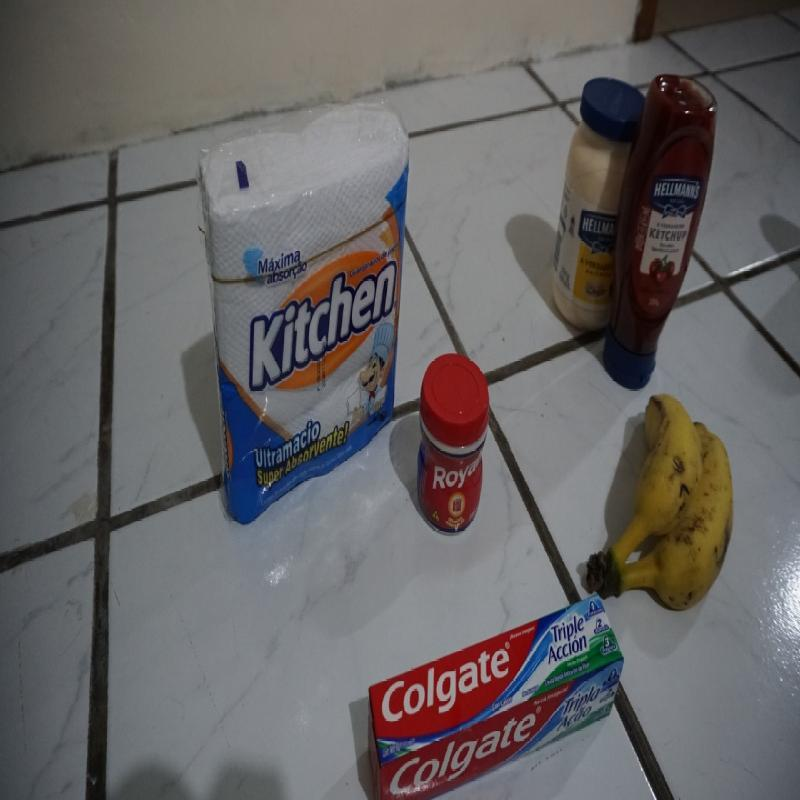Banana: (587, 396, 735, 615)
Ketchup: (603, 72, 719, 390)
Mayonnaise: (550, 75, 640, 337)
Napkin: (199, 102, 410, 526)
Toothpaste: (361, 595, 626, 800)
Yeast: (415, 355, 489, 536)
